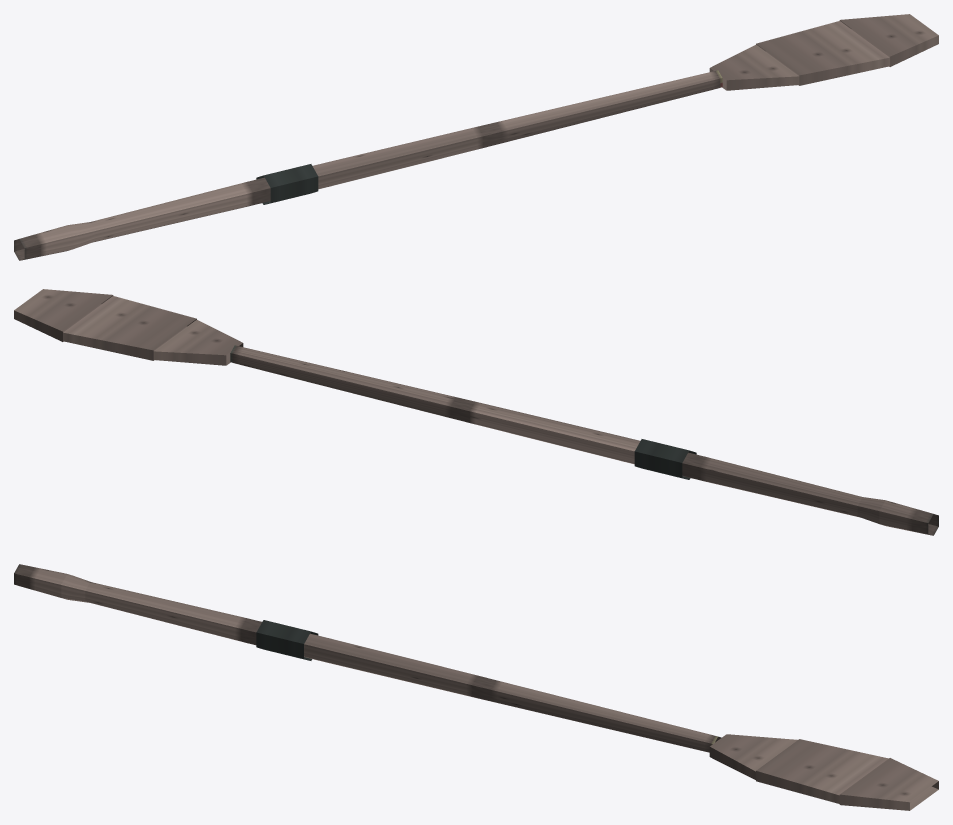
The model's file is SM_Forest_Oar_200x20x10.fbx.
The picture shows the model from 3 angles, top to bottom: view 1: azimuth 30°, elevation 25°; view 2: azimuth 150°, elevation 25°; view 3: azimuth 330°, elevation 25°; orthographic projection.
Visible parts, largest first — view 1: SM_Forest_Oar_200x20x10.001; view 2: SM_Forest_Oar_200x20x10.001; view 3: SM_Forest_Oar_200x20x10.001.
Part boxes in pixels (left/top/right/bottom): SM_Forest_Oar_200x20x10.001: left=14, top=14, right=938, bottom=260; SM_Forest_Oar_200x20x10.001: left=14, top=289, right=938, bottom=535; SM_Forest_Oar_200x20x10.001: left=14, top=564, right=938, bottom=810.
Bounding box in the file's own units: 1.97 × 0.062 × 0.19.
